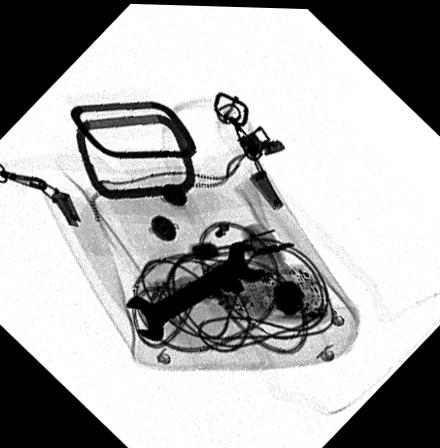Wrench: (122, 236, 267, 341)
